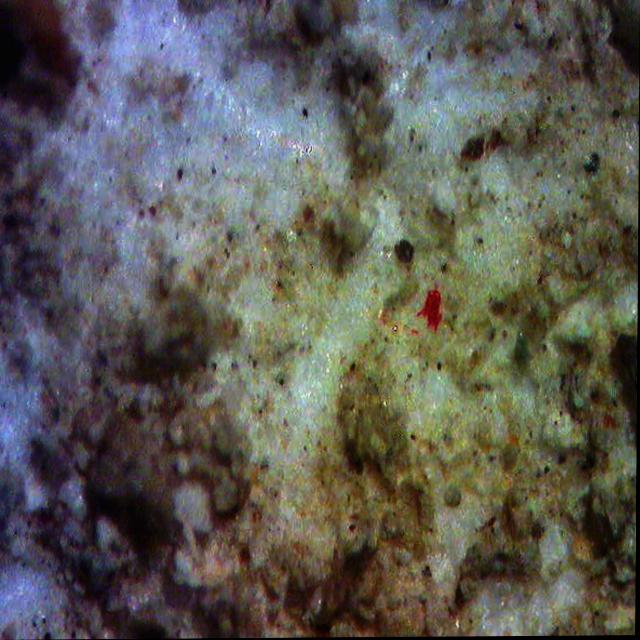microplastic: (424, 287, 442, 330)
